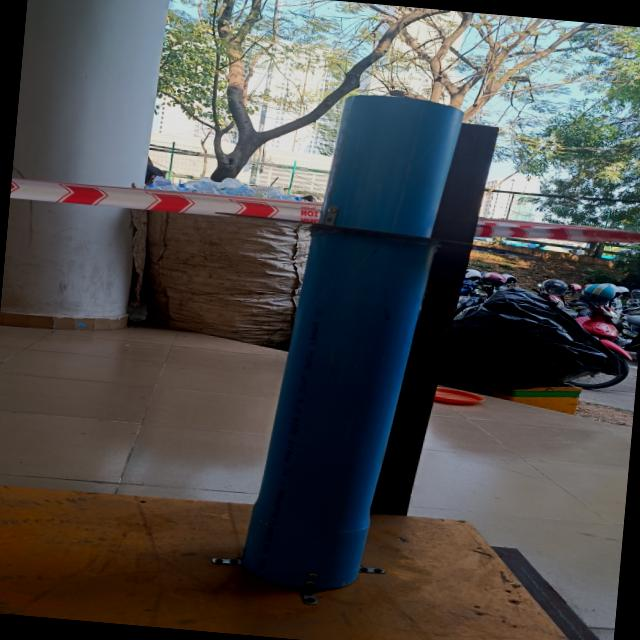pole: (193, 78, 564, 396)
